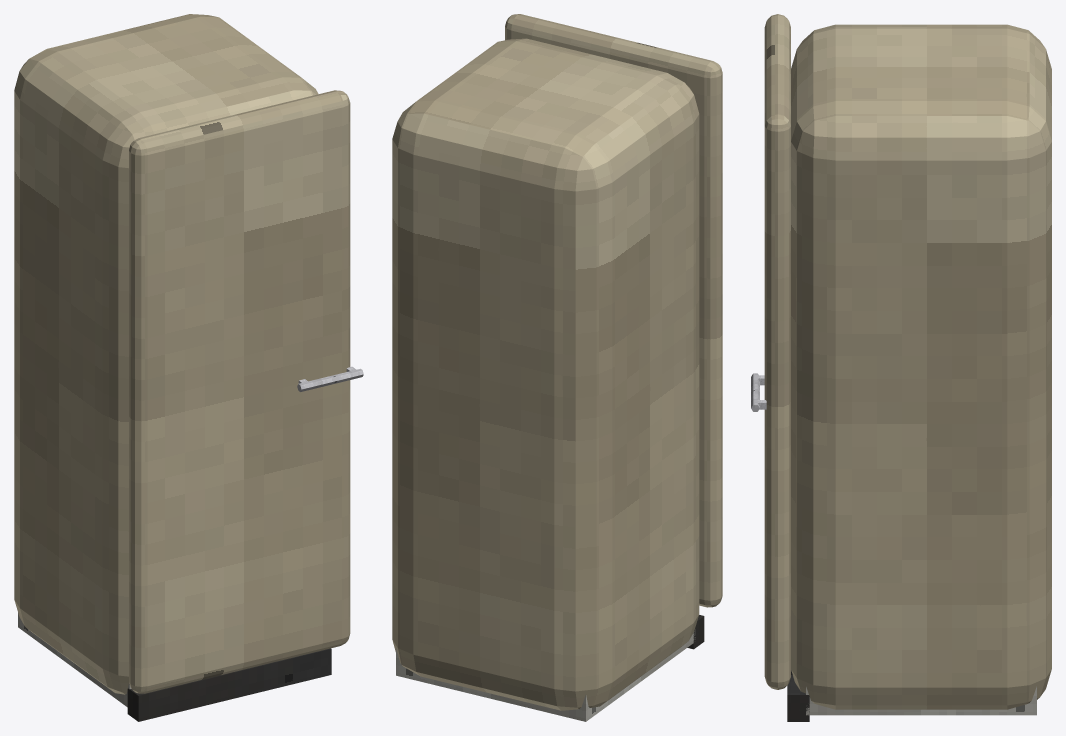
Rendered from Fridge.glb.
3 views of the same model, side by side, from view 1: azimuth 30°, elevation 25°; view 2: azimuth 150°, elevation 25°; view 3: azimuth 270°, elevation 25° (orthographic). The views are drawn at different scales.
Parts seen in each view (by area): view 1: FridgeDoor, FridgeBody; view 2: FridgeBody, FridgeDoor; view 3: FridgeBody, FridgeDoor.
Part boxes in pixels (x1,y1,x2,y2): FridgeDoor: (129,90,363,693); FridgeBody: (14,14,331,721); FridgeBody: (392,38,704,721); FridgeDoor: (505,14,722,607); FridgeBody: (787,24,1051,721); FridgeDoor: (751,14,790,689).
Size of the model in its own units: 0.7075 by 1.8 by 0.807.
Materials: 1 (1 with a texture image).
